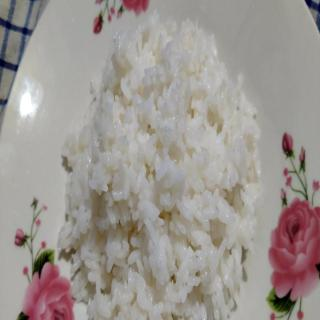Nasi: (57, 7, 263, 320)
